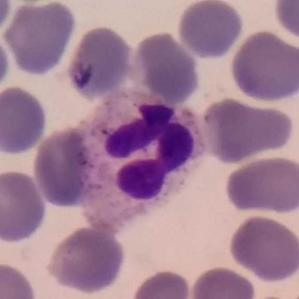Neutrophil: (44, 91, 218, 232)
RBC: (198, 95, 296, 165), (0, 0, 79, 78), (30, 124, 98, 210), (44, 225, 127, 295), (129, 29, 203, 105), (65, 24, 136, 102), (227, 28, 298, 104), (226, 213, 299, 282), (222, 154, 299, 217), (174, 0, 245, 60), (0, 168, 50, 244), (0, 83, 50, 157), (188, 264, 258, 299), (128, 267, 194, 299), (0, 259, 39, 298), (271, 0, 299, 43), (0, 32, 12, 96), (0, 0, 13, 36)
